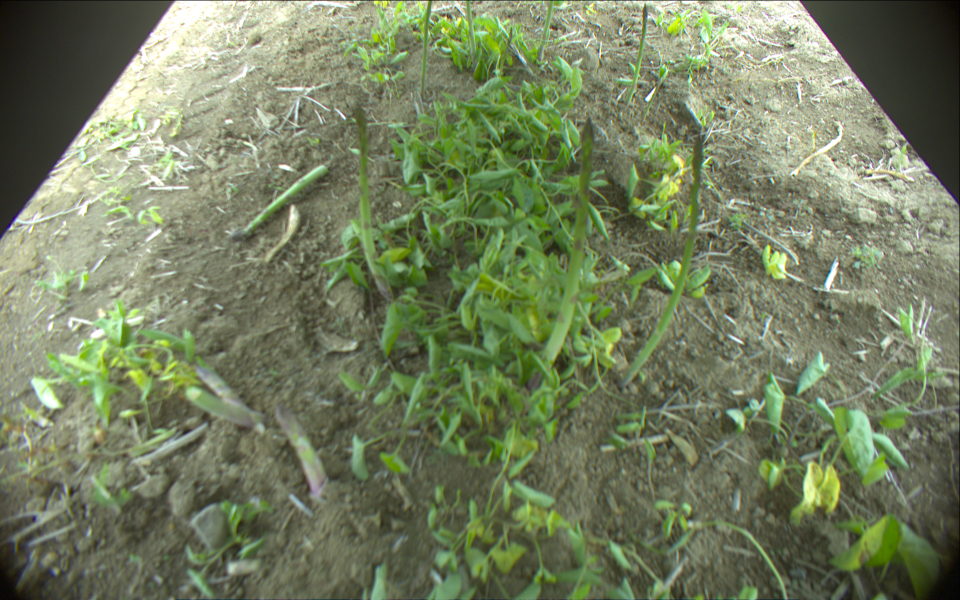aspa: (620, 130, 705, 392), (539, 118, 596, 371), (351, 103, 396, 301), (232, 163, 326, 242), (276, 408, 329, 497), (186, 388, 262, 432), (625, 3, 654, 106), (192, 368, 250, 409), (418, 1, 432, 101), (463, 1, 481, 62), (536, 1, 553, 64), (498, 25, 512, 80)
